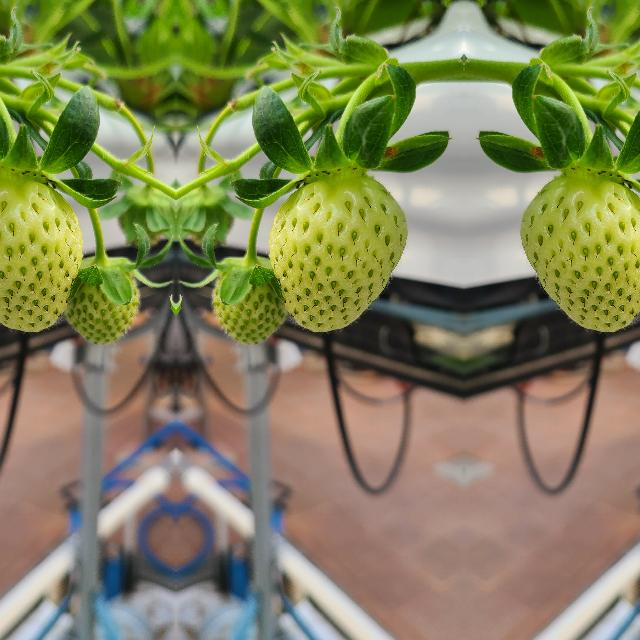Health_25: (263, 178, 407, 334), (519, 177, 640, 334), (0, 177, 87, 334), (204, 250, 296, 350), (54, 250, 146, 350)
